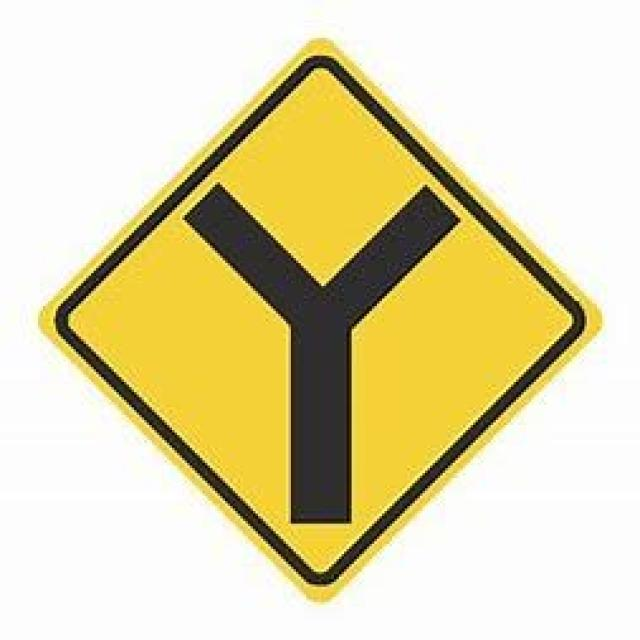Y_INTERSECTION: (28, 27, 620, 615)
